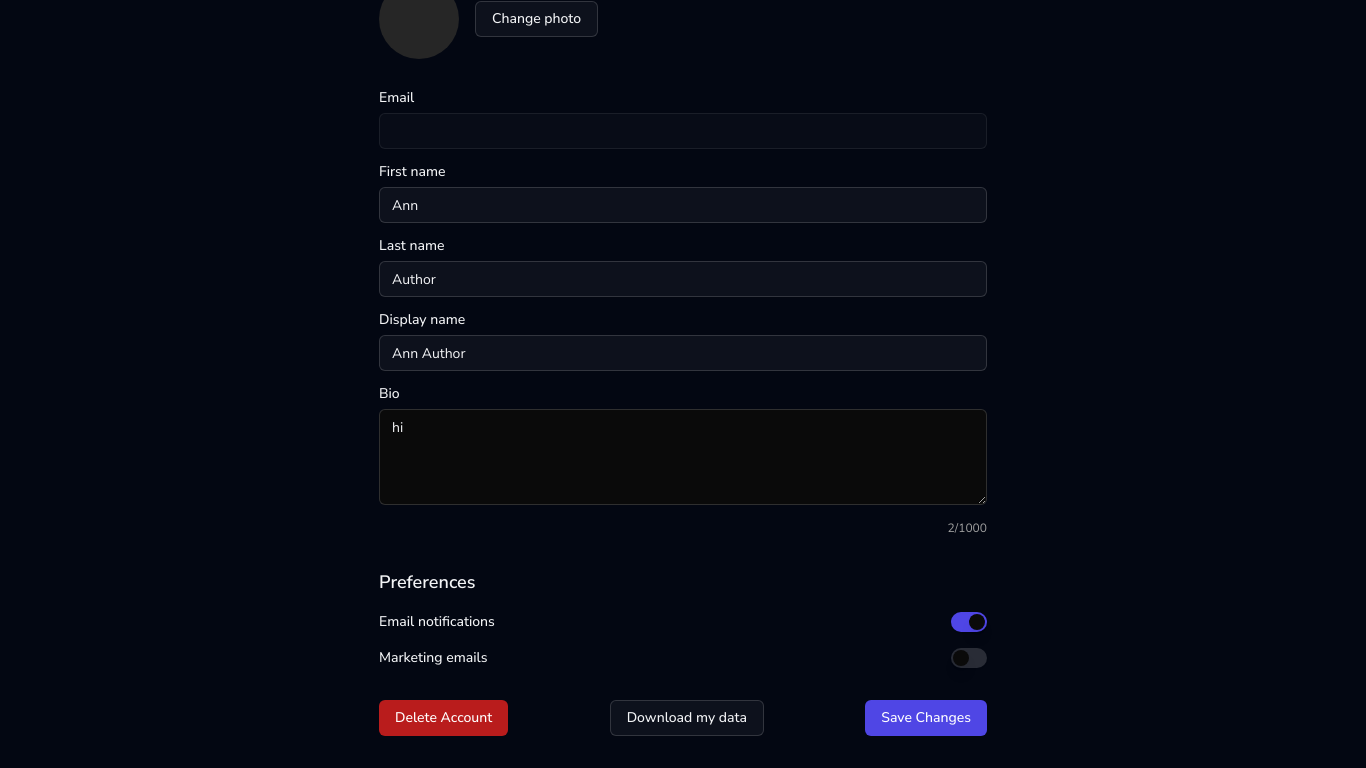
Test: ProfilePage account deletion type-to-confirm (#216) › falls back to the hydrated profile email when the session has none
(page scrolled)
Expected: the button "Save Changes" is enabled, top-left (865, 700), bottom-right (987, 736)
Click the button "Delete Account" at (444, 718), box top-left (379, 700), bottom-right (508, 736)
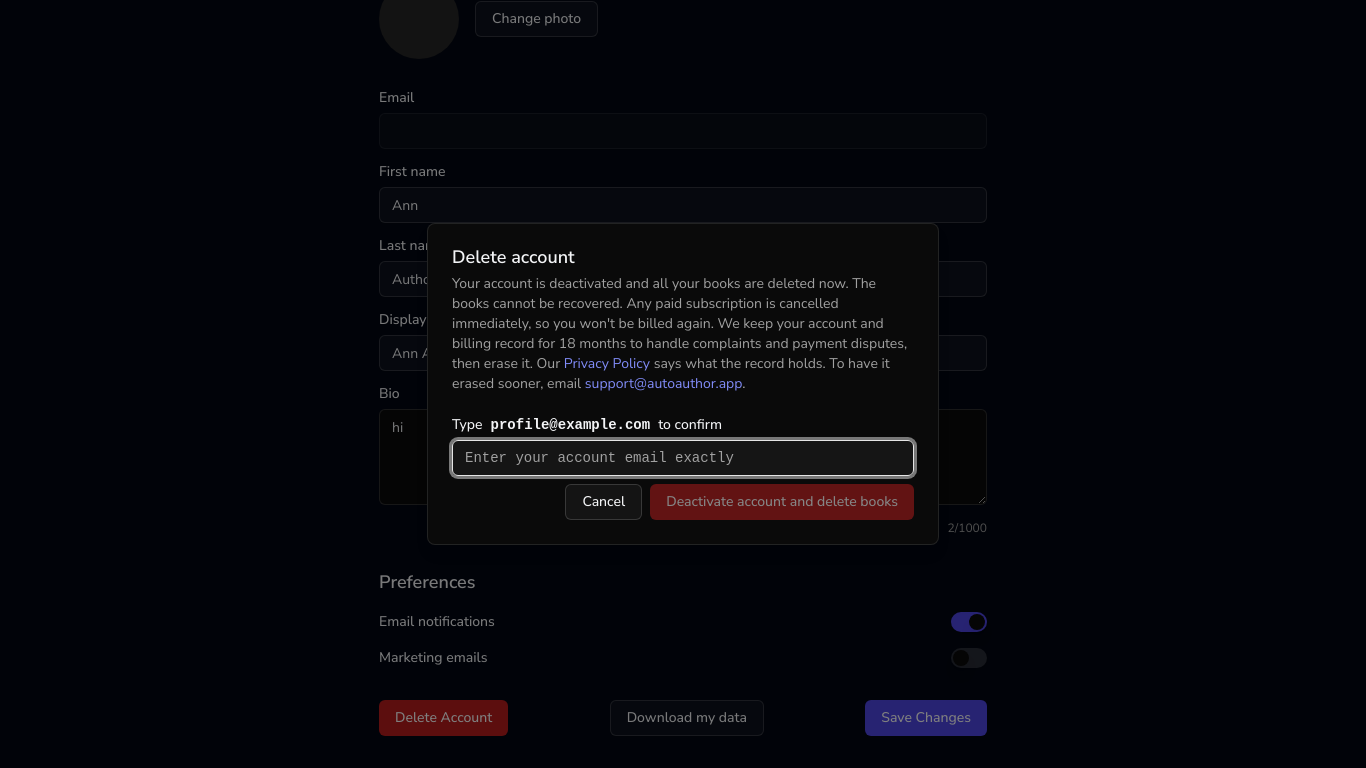
Now the button "Deactivate account and delete books" is disabled, box top-left (650, 484), bottom-right (914, 520)
Type "profile@example.com" into the field labelled "Type profile@example.com to confirm" at (683, 458), box top-left (452, 440), bottom-right (914, 476)
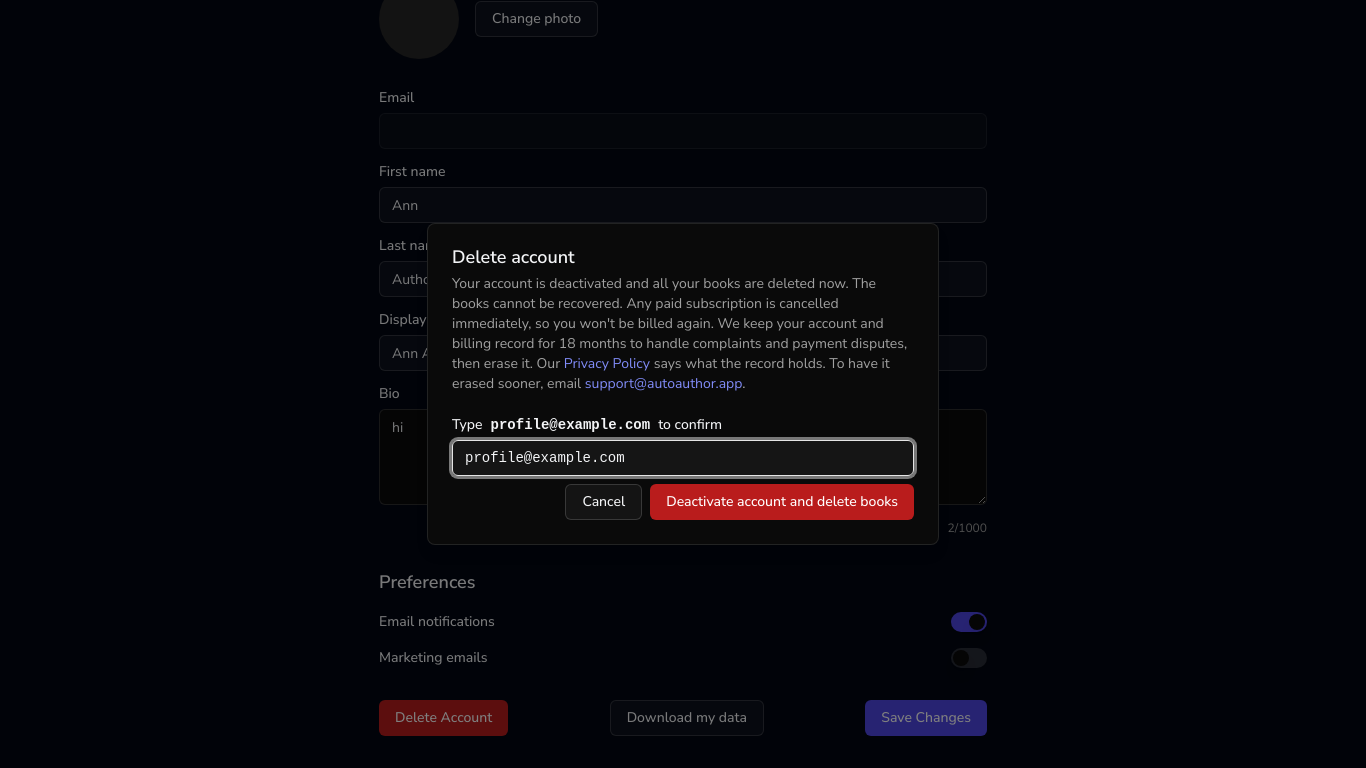
Now the button "Deactivate account and delete books" is enabled, box top-left (650, 484), bottom-right (914, 520)
